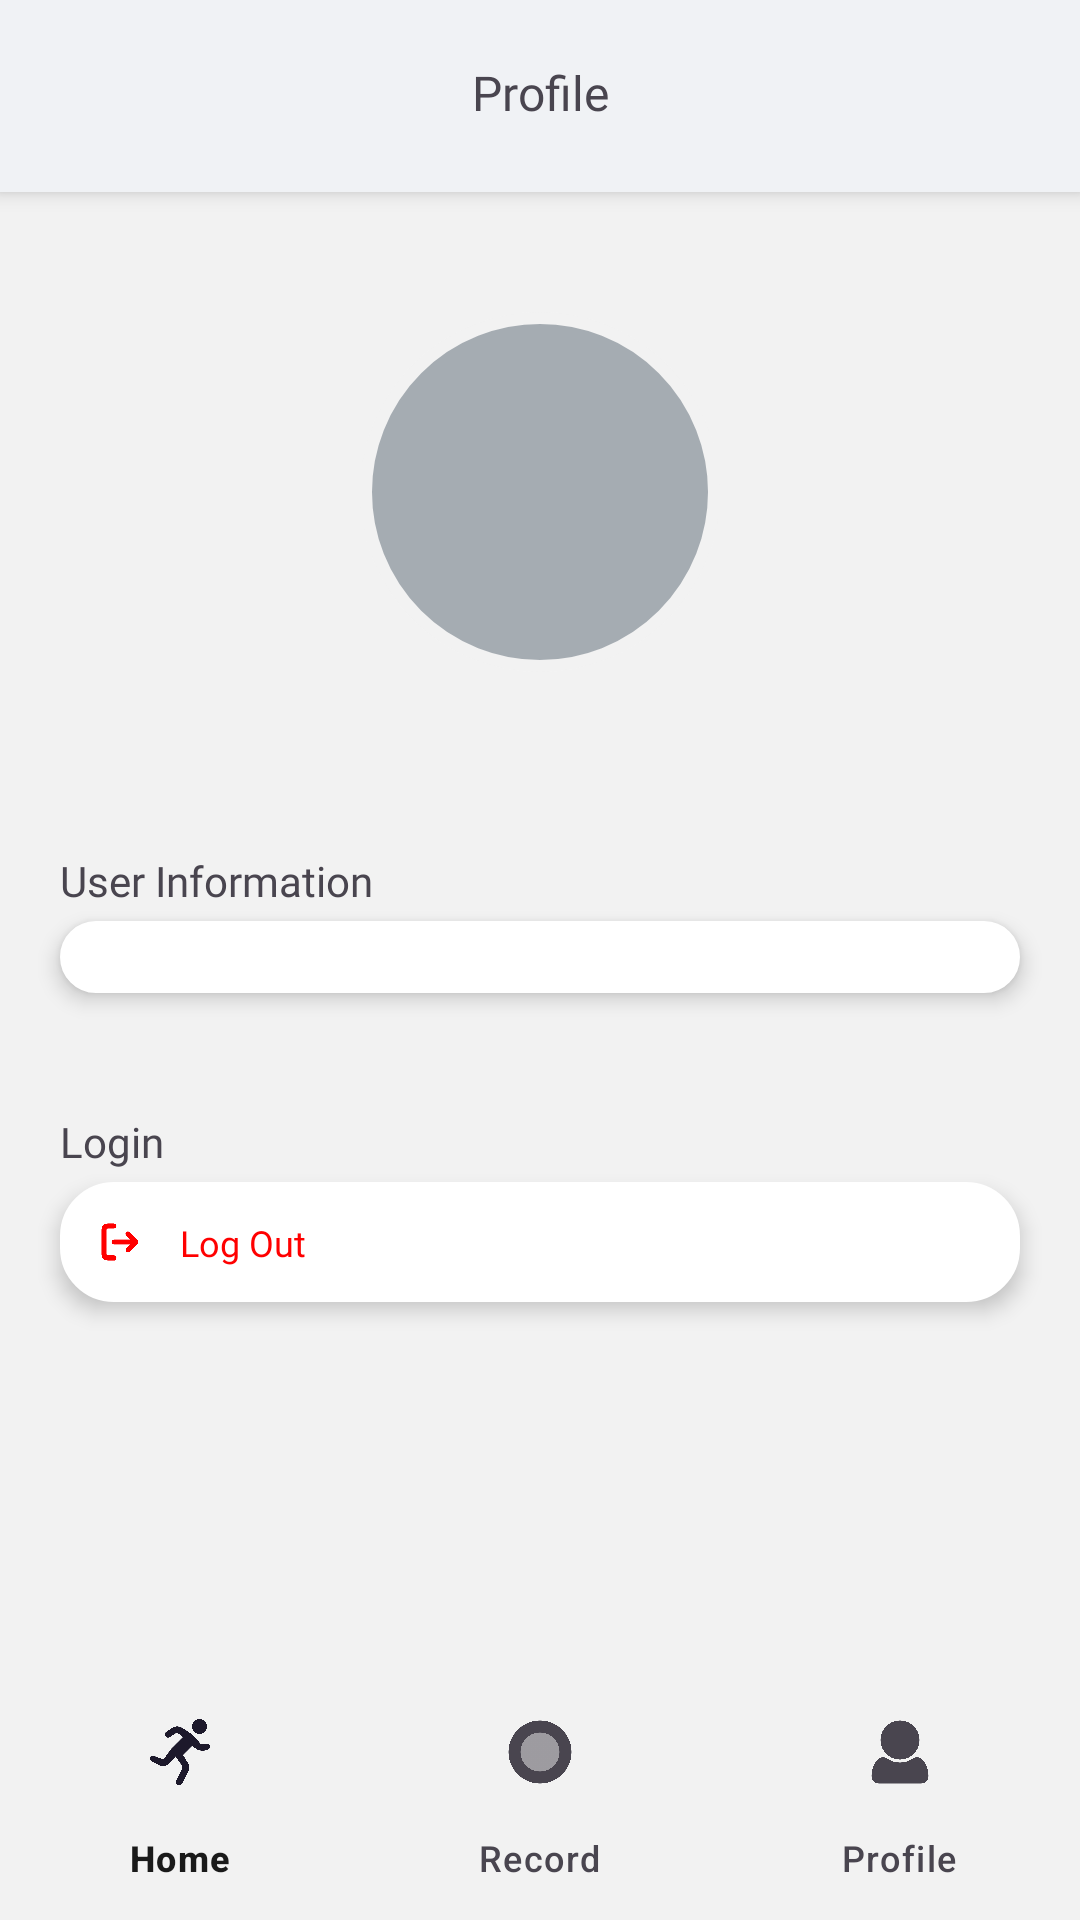

Where icons sit on this 1080 x 1920 app screen, as box(x1, y1, x2, y2):
signout: box(101, 1223, 138, 1261)
